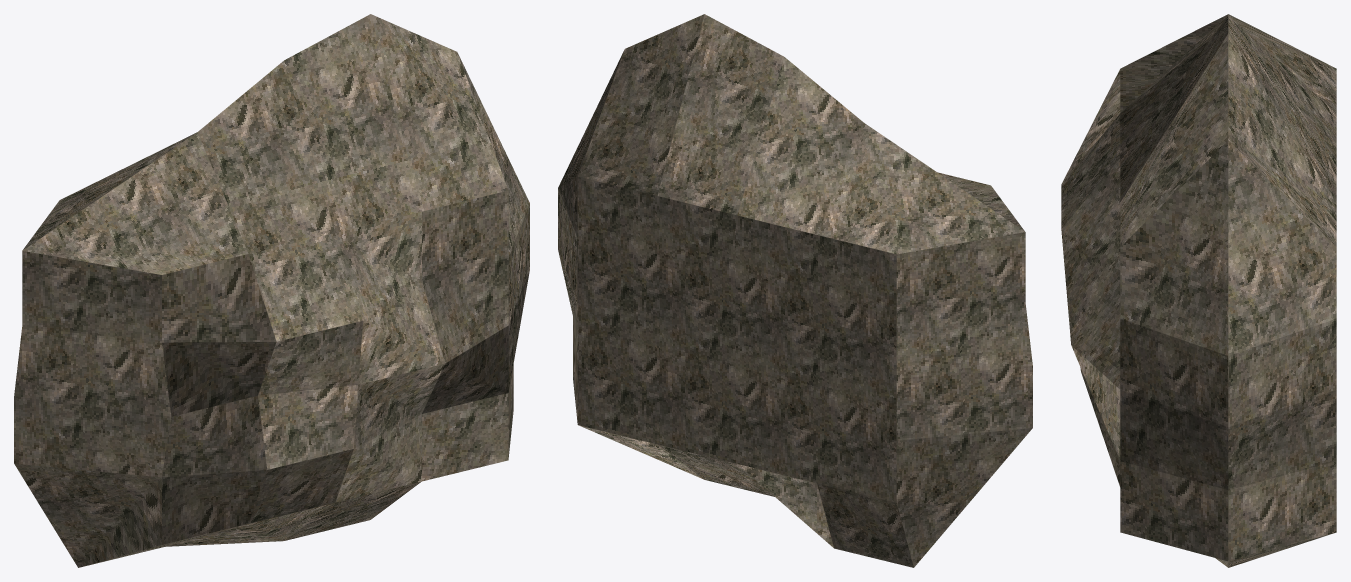
File: rock_5.gltf
3 views of the same model, side by side, from view 1: azimuth 30°, elevation 25°; view 2: azimuth 150°, elevation 25°; view 3: azimuth 270°, elevation 25° (orthographic). The views are drawn at different scales.
Visible parts, largest first — view 1: mesh; view 2: mesh; view 3: mesh.
Part boxes in pixels (x1,y1,x2,y2): mesh: (14, 14, 529, 567); mesh: (558, 14, 1032, 567); mesh: (1061, 14, 1336, 567).
Size of the model in its own units: 4 by 3.81 by 1.75.
1 material, 1 textured.
